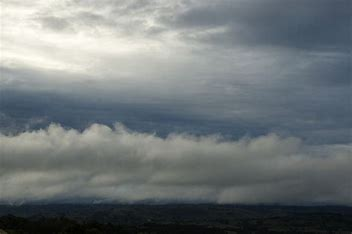Stratus: (2, 1, 349, 105), (2, 119, 352, 205)
